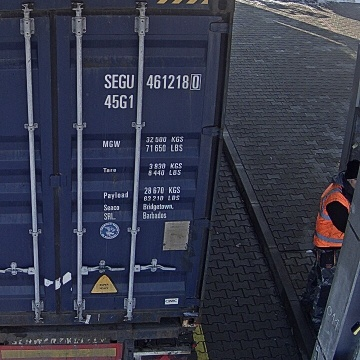serial_id: (104, 74, 199, 88)
